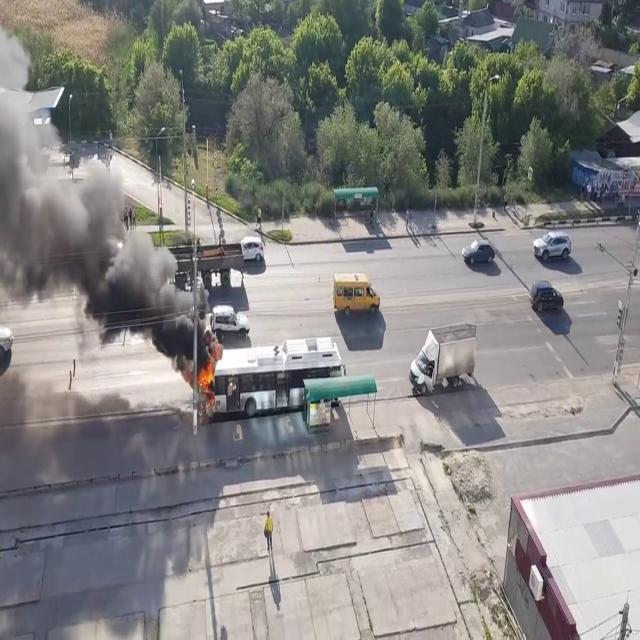Fire: (198, 354, 218, 400)
Smoke: (0, 1, 194, 350)
